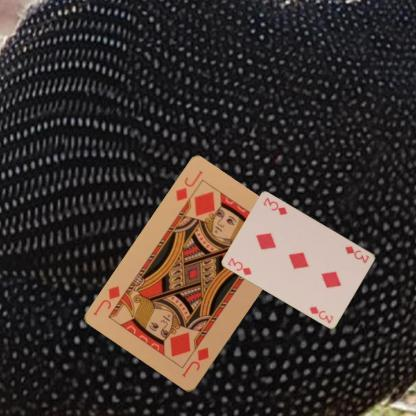3d: (343, 243, 370, 265), (225, 256, 253, 276)
Jd: (172, 167, 204, 202), (179, 344, 210, 380)
